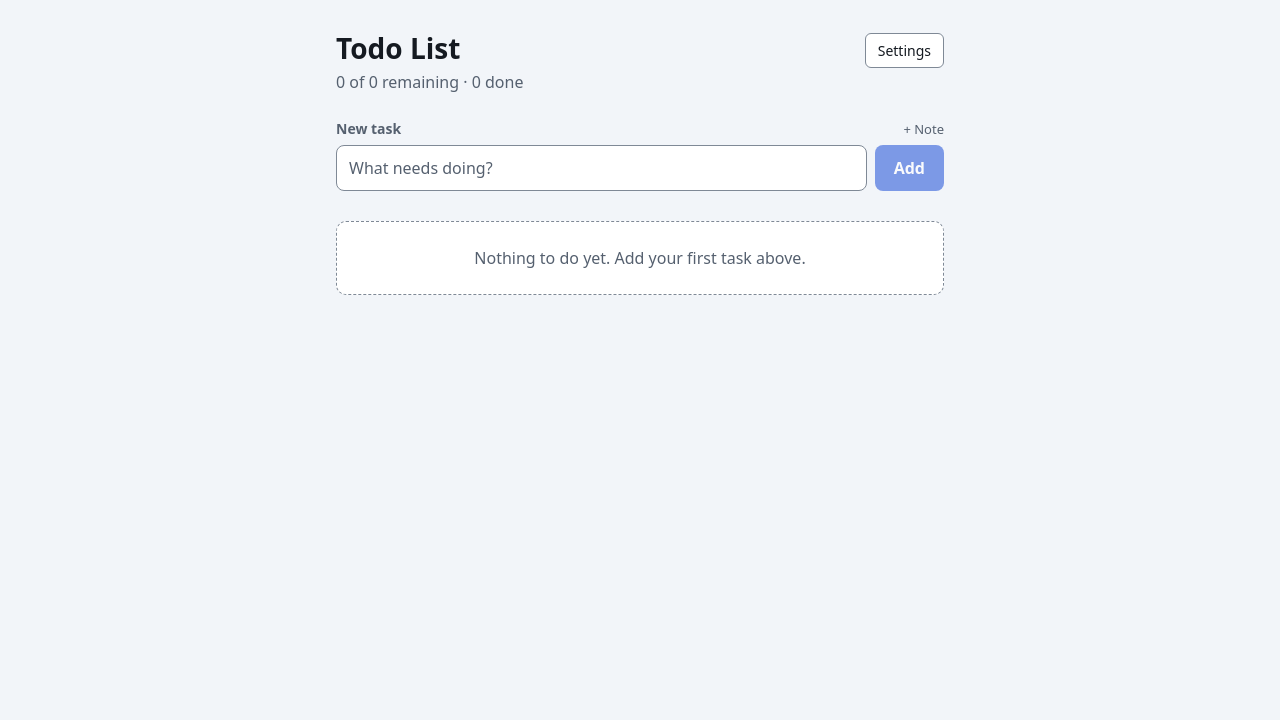
App › changes the theme from the header without breaking tasks
The image size is (1280, 720).
Expected: the text "Nothing to do yet. Add your first task above." is shown, [336,221,944,295]
Click the button "Settings": (904, 51) [865,33,944,68]
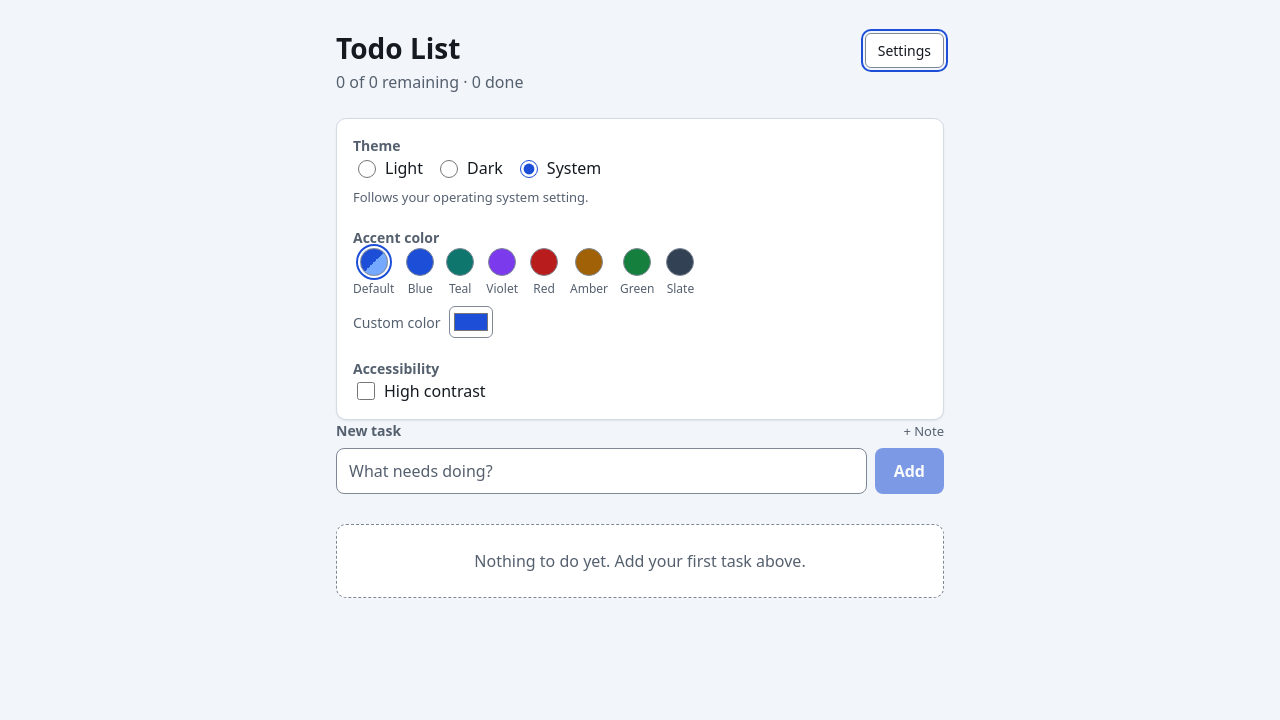
Click the radio button labelled "Dark": (449, 169) [440,160,458,178]
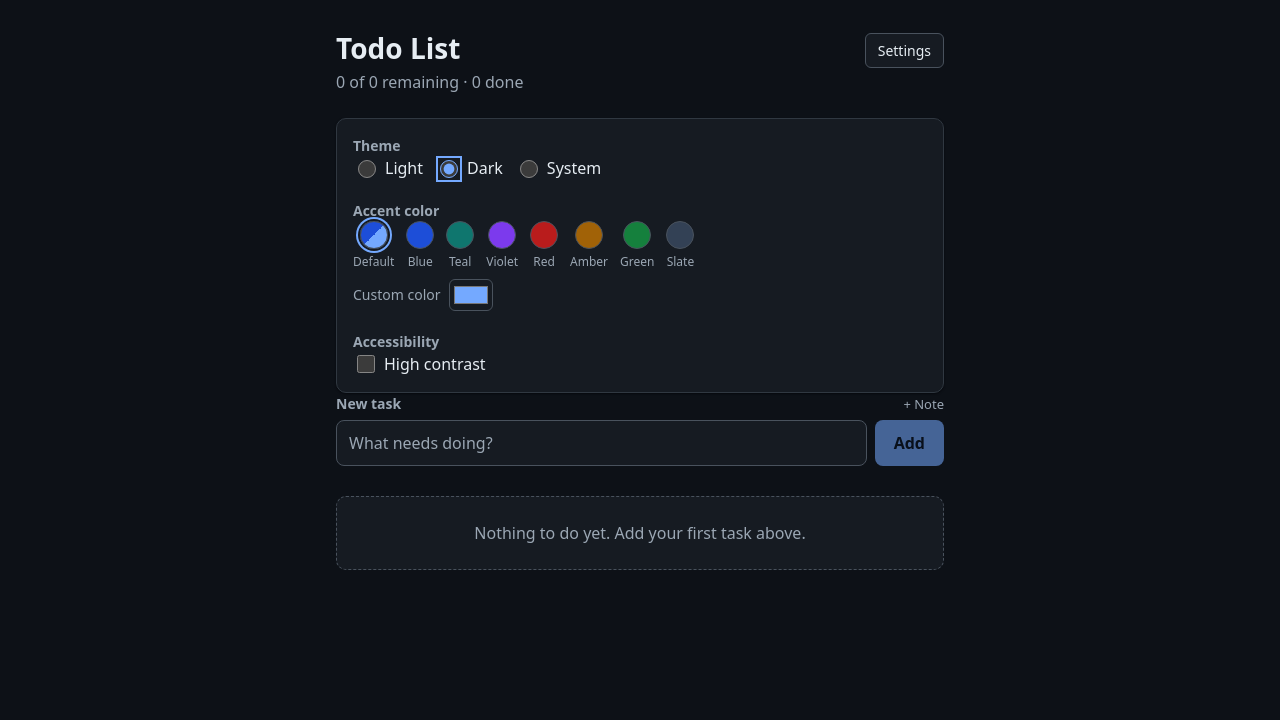
In the field labelled "New task": (601, 443) [336,420,867,466], type "Still works"
Then press Enter
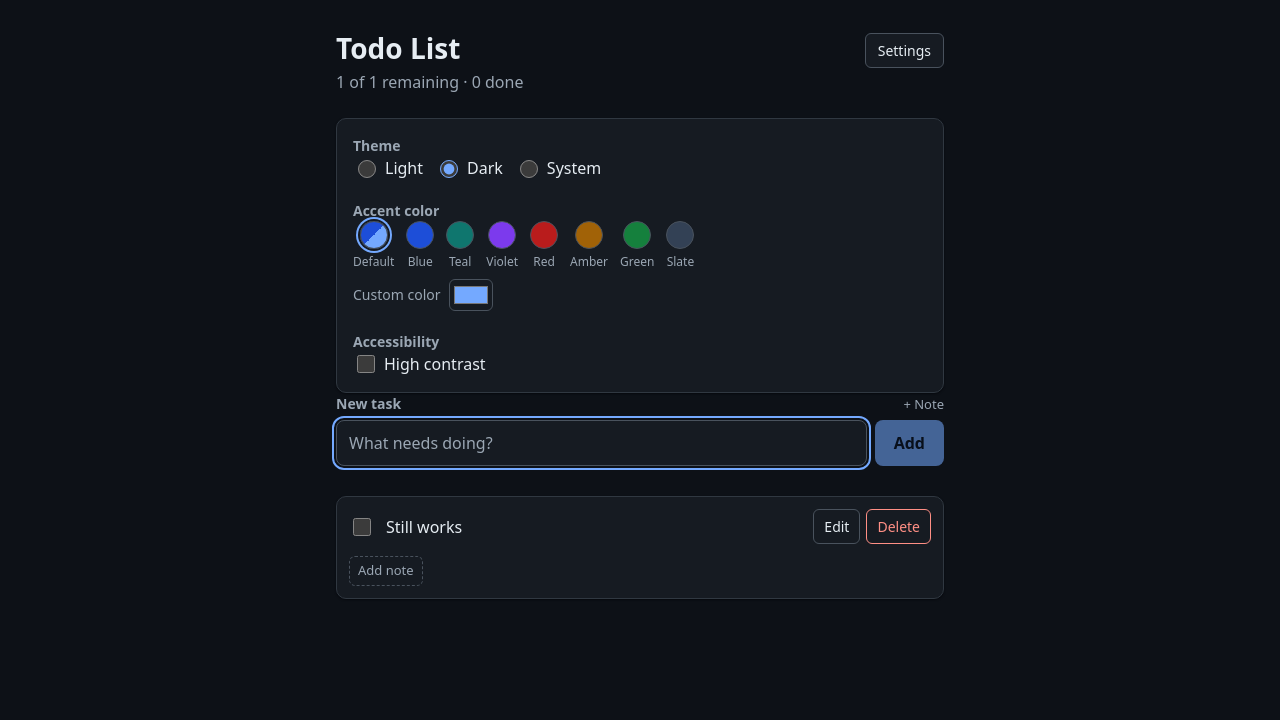
Result: the text "Still works" is shown at [386,515,462,539]
